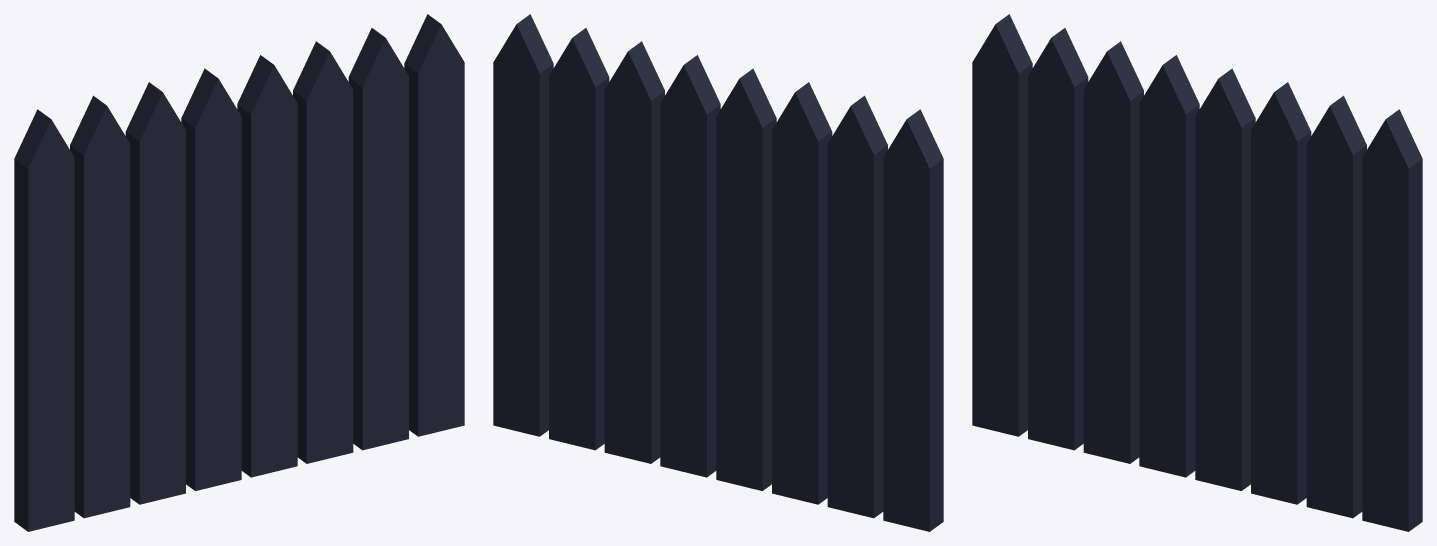
Rendered from vallas.fbx.
3 views of the same model, side by side, from view 1: azimuth 30°, elevation 25°; view 2: azimuth 150°, elevation 25°; view 3: azimuth 330°, elevation 25° (orthographic).
Visible parts, largest first — view 1: Cube; view 2: Cube; view 3: Cube.
Part boxes in pixels (<box>): Cube: <box>14,14,464,531</box>; Cube: <box>493,14,943,531</box>; Cube: <box>972,14,1422,531</box>.
Bounding box in the file's own units: 252 × 224 × 13.91.
